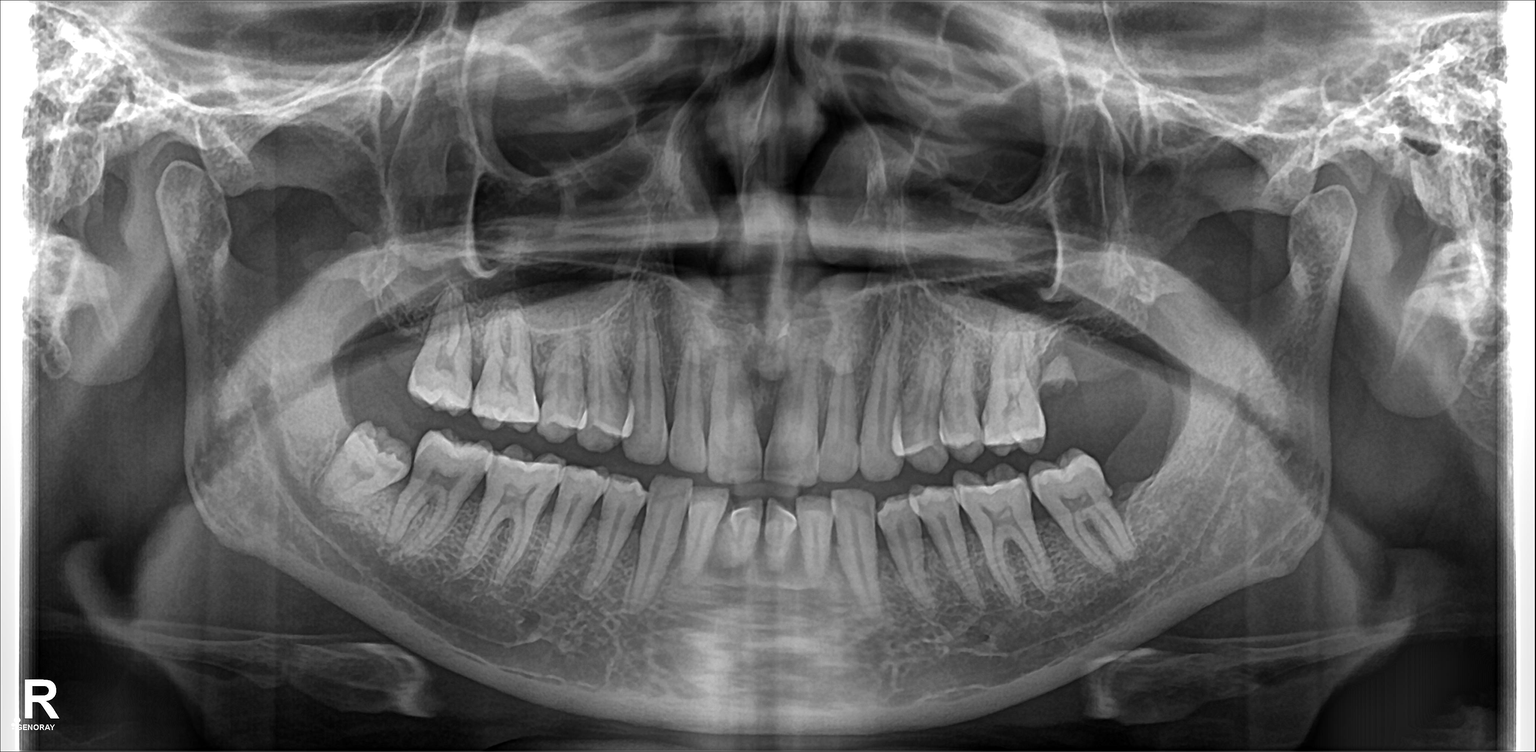Impacted Third Molar: (328, 426, 404, 502)
Missing Tooth: (349, 292, 417, 396), (1097, 315, 1153, 420), (1107, 441, 1167, 523)
Retained Root: (1045, 324, 1088, 428)
